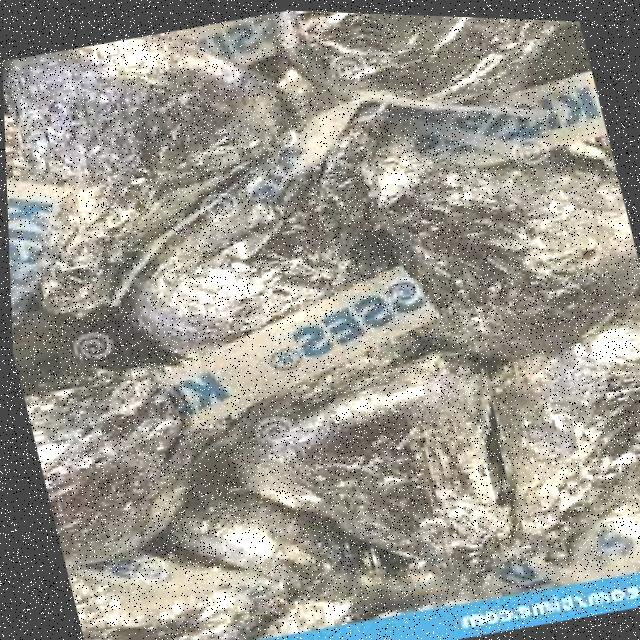kisses: (73, 49, 497, 380), (0, 13, 307, 337), (237, 346, 548, 639), (345, 71, 640, 369), (14, 331, 270, 579)
